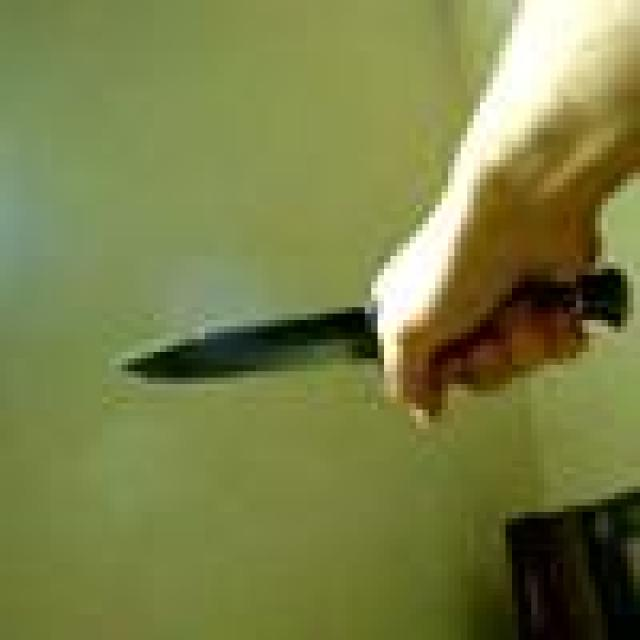knife: (115, 308, 377, 379)
